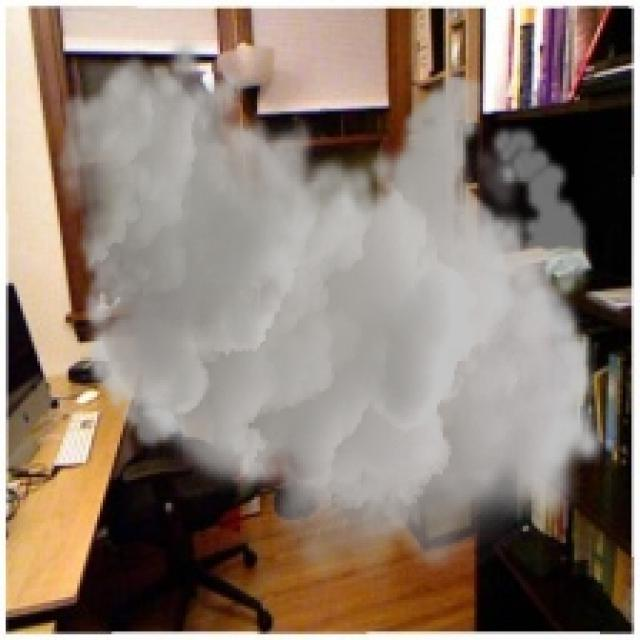smoke: (54, 34, 609, 594)
